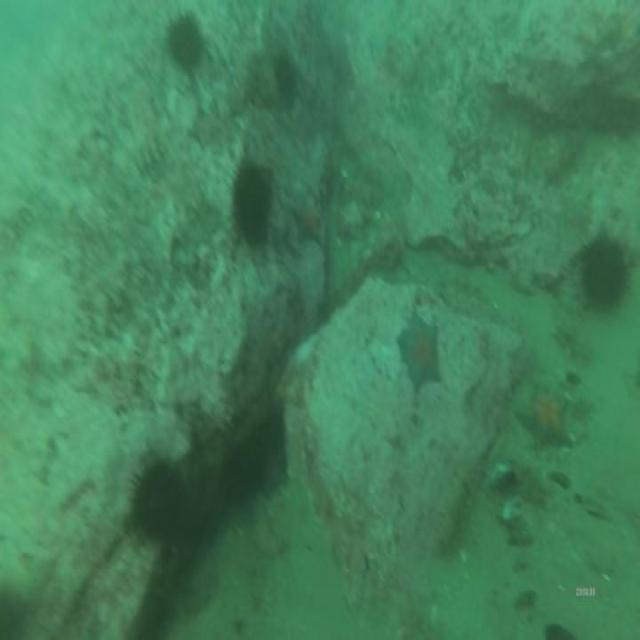echinus: (133, 469, 186, 539), (584, 235, 627, 310), (234, 166, 270, 237), (167, 14, 202, 70)
holothurian: (436, 463, 479, 550)
starfish: (520, 382, 568, 448), (398, 316, 439, 387), (293, 193, 323, 243)
